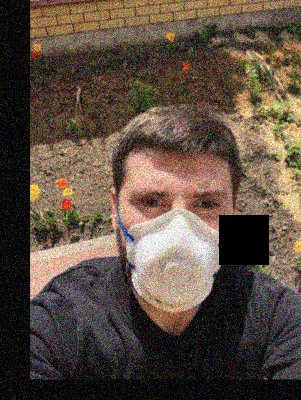with_mask: (121, 167, 231, 313)
